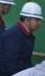boots: (0, 70, 18, 76), (0, 72, 13, 76)
hard-hat: (0, 21, 14, 44)
ppe-suit: (0, 38, 22, 76)
